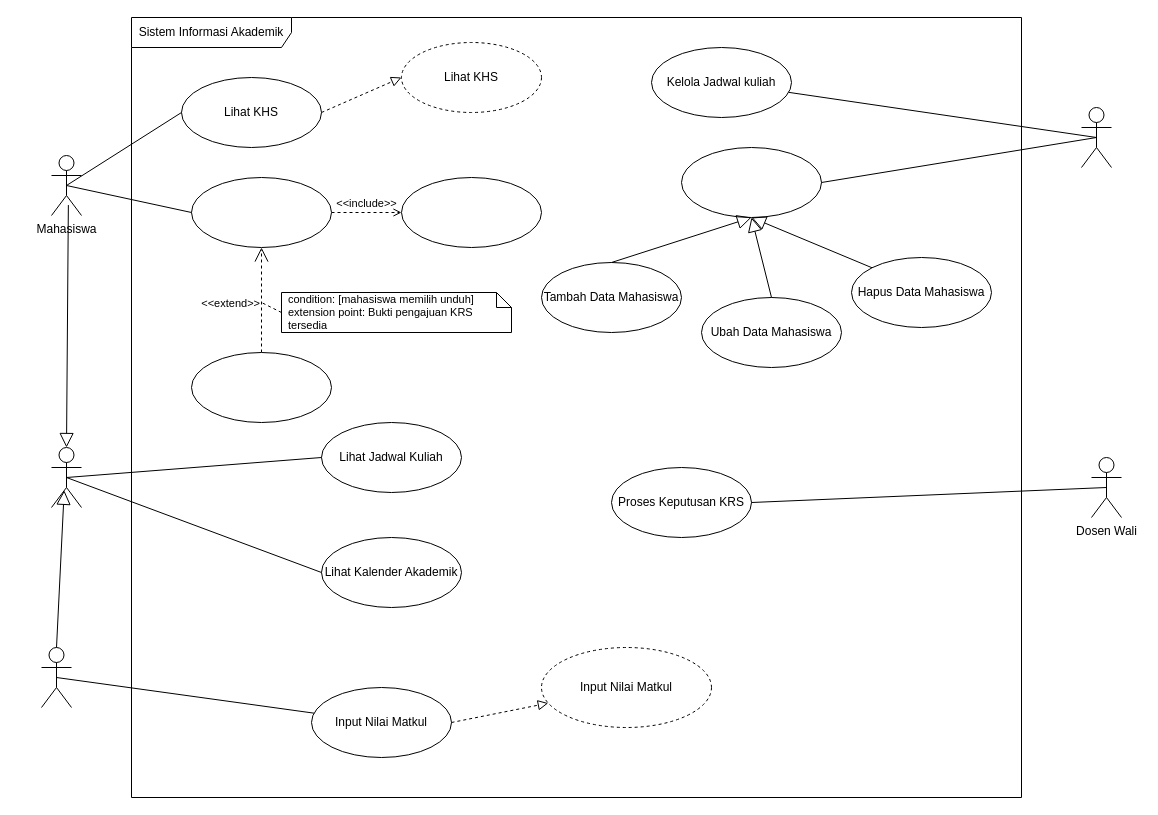
Image size: 1158x815. Some labels were removed from this diagram. Here are the shapes that lost their labels. From the top down, the centre of each, then its label:
At [1096,137]: "Admin Akademik".
At [751,182]: "Kelola Data Mahasiswa".
At [261,212]: "Ajukan KRS".
At [471,212]: "Validasi KRS".
At [261,387]: "Unduh Bukti Pengajuan KRS".
At [66,477]: "Civitas Akademika".
At [56,677]: "Dosen".
